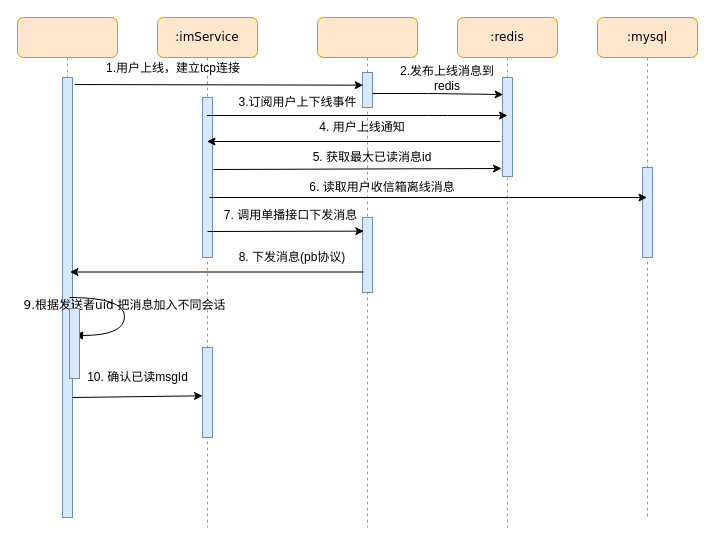
Image size: 715x545. Some labels were removed from this diagram. The box of each missing label's shape, as (x1, y1, x2, y2) in pixels:
:APP: (16, 16, 118, 518)
:goim: (316, 16, 418, 528)
